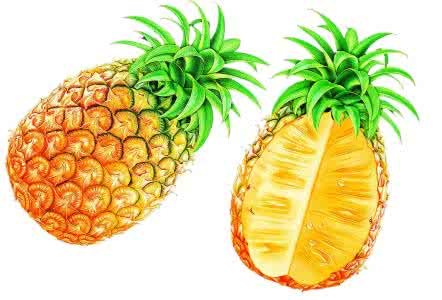pineapple: (10, 7, 259, 244), (233, 5, 402, 287)
